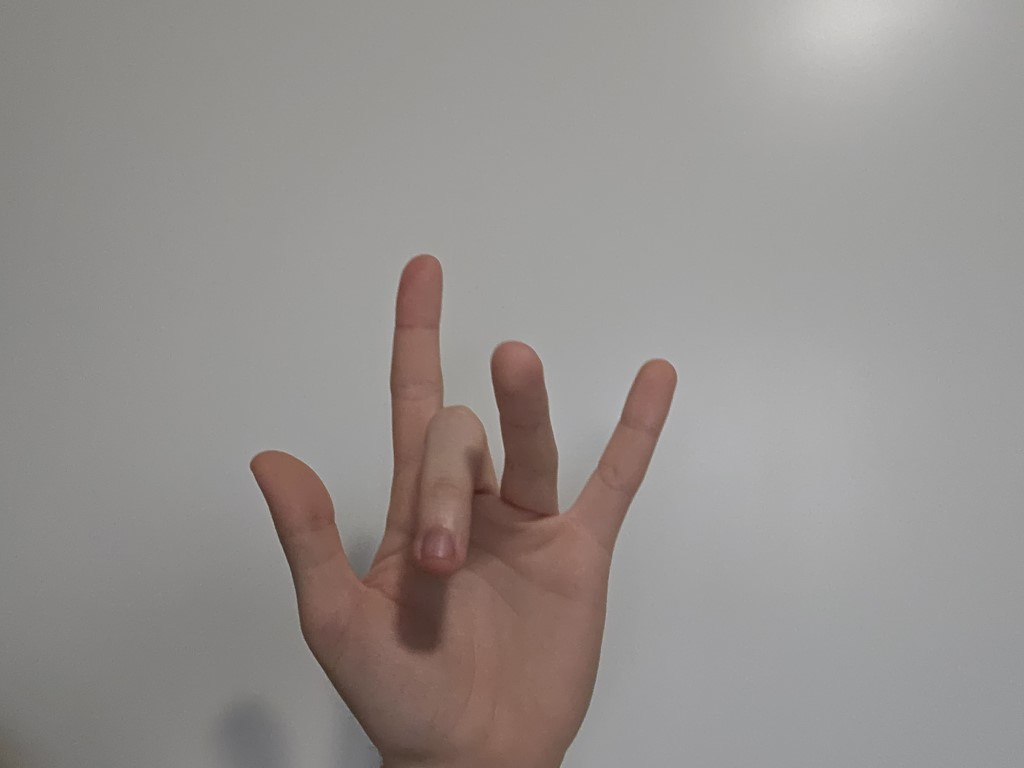reset: (234, 221, 729, 753)
